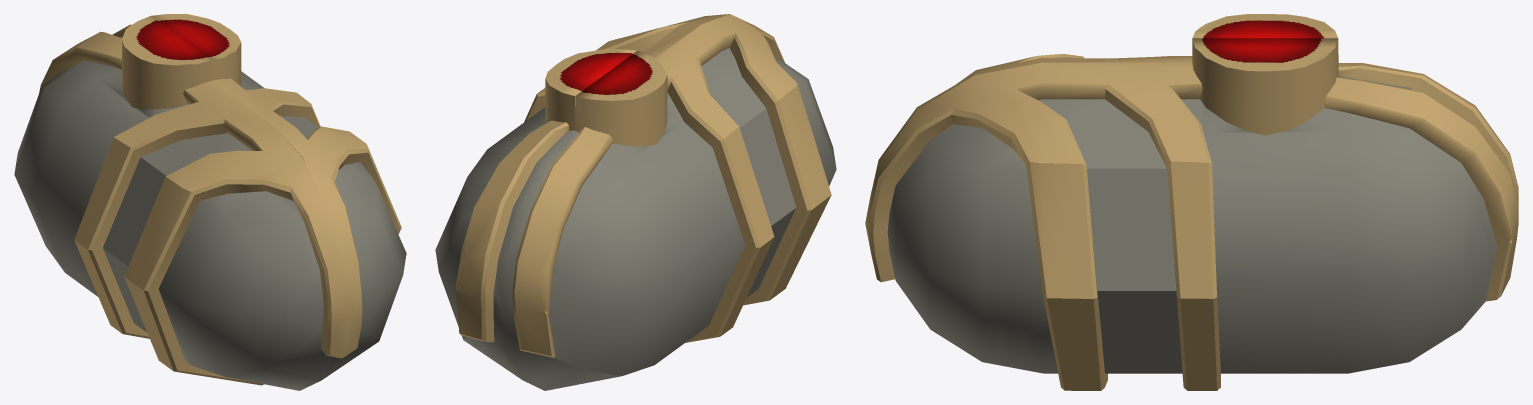
File: hobotron.FBX
The picture shows the model from 3 angles, left to right: view 1: azimuth 30°, elevation 25°; view 2: azimuth 150°, elevation 25°; view 3: azimuth 270°, elevation 25°; orthographic projection. The views are drawn at different scales.
Parts seen in each view (by area): view 1: Capsule001; view 2: Capsule001; view 3: Capsule001.
Part boxes in pixels (x1=…): Capsule001: x1=14, y1=14, x2=406, y2=390; Capsule001: x1=435, y1=14, x2=836, y2=390; Capsule001: x1=865, y1=14, x2=1518, y2=390.
Bounding box in the file's own units: 38.56 × 41.18 × 70.64.
